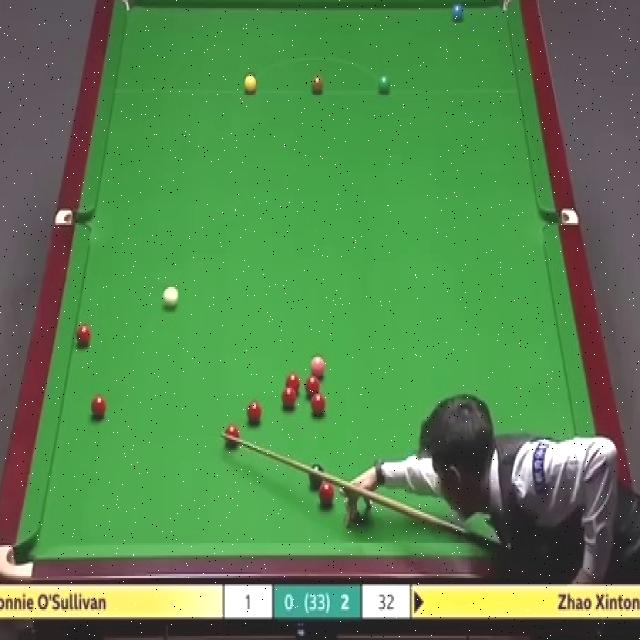black-ball: (308, 462, 325, 492)
blue-ball: (451, 1, 466, 26)
brown-ball: (310, 76, 324, 96)
green-ball: (377, 75, 391, 96)
pink-ball: (307, 353, 326, 379)
red-ball: (88, 391, 108, 422), (223, 424, 241, 453), (318, 482, 336, 508), (246, 400, 263, 424), (281, 387, 297, 411), (75, 323, 90, 348), (311, 392, 326, 416), (284, 373, 301, 394), (304, 376, 321, 396)
white-ball: (160, 283, 182, 314)
yellow-ball: (244, 74, 258, 95)
